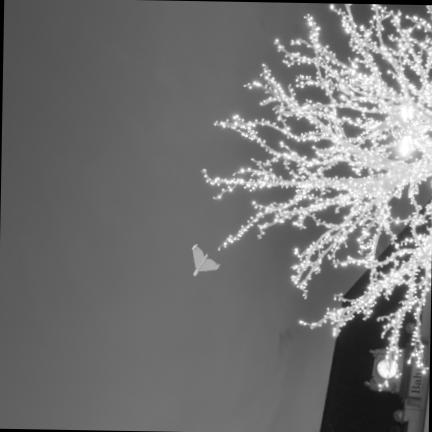Shahed: (192, 243, 219, 274)
